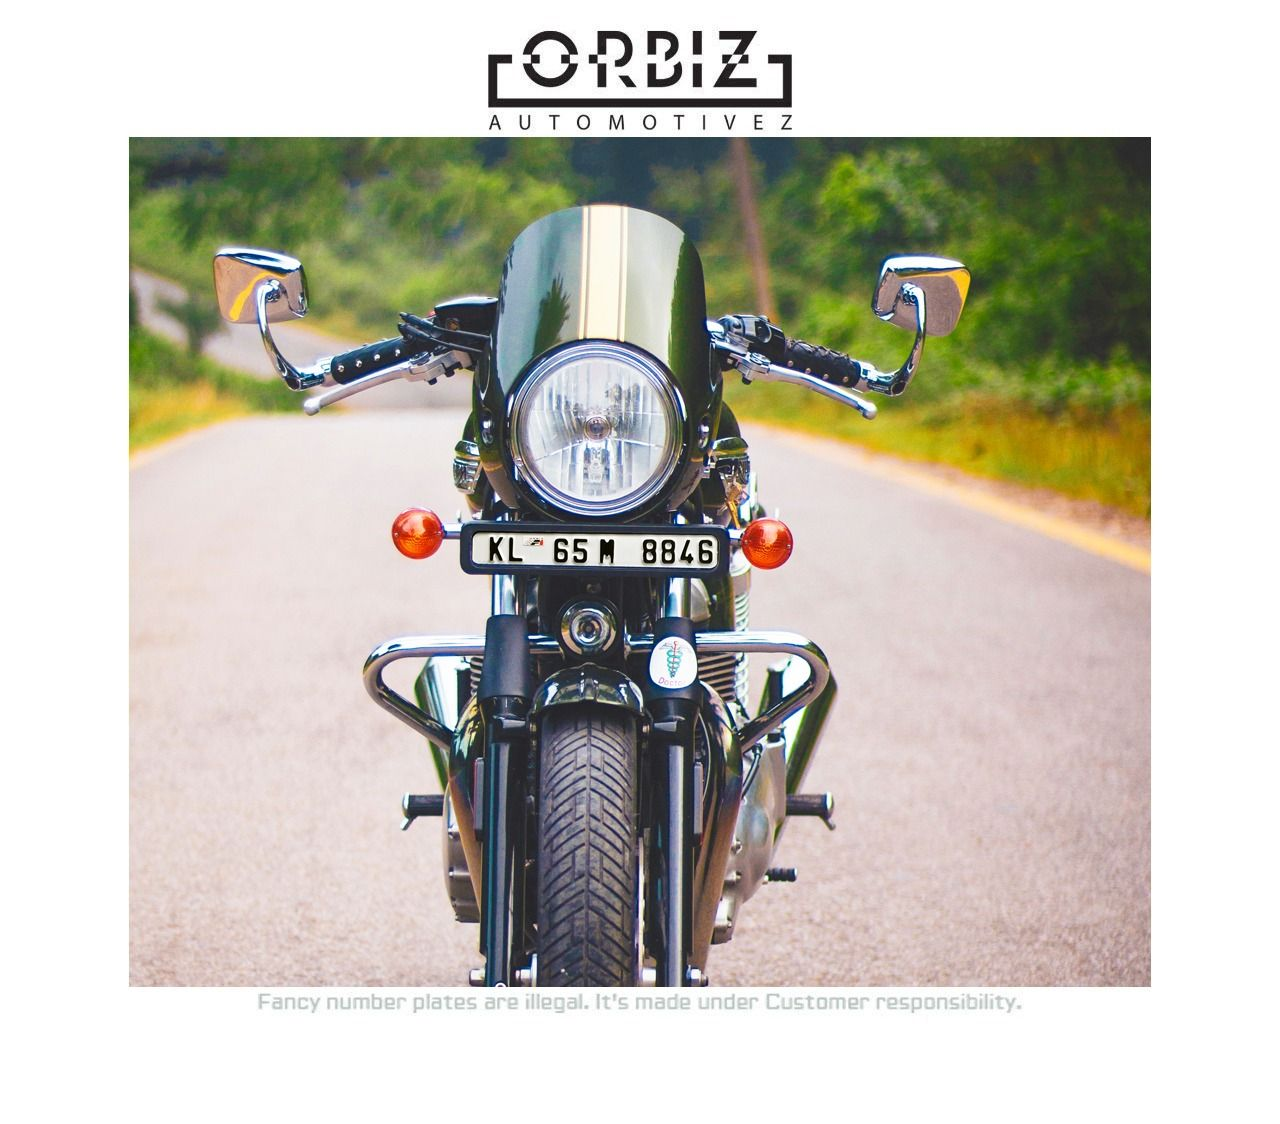bike: (205, 163, 1006, 986)
numberplate: (459, 520, 732, 582)
